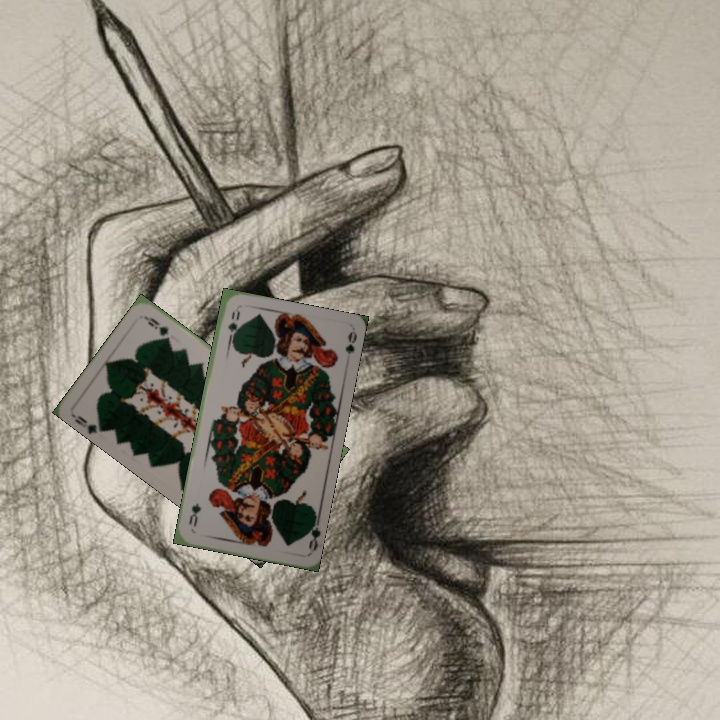G9: (68, 410, 108, 436)
GO: (300, 513, 322, 554), (224, 308, 239, 346)
